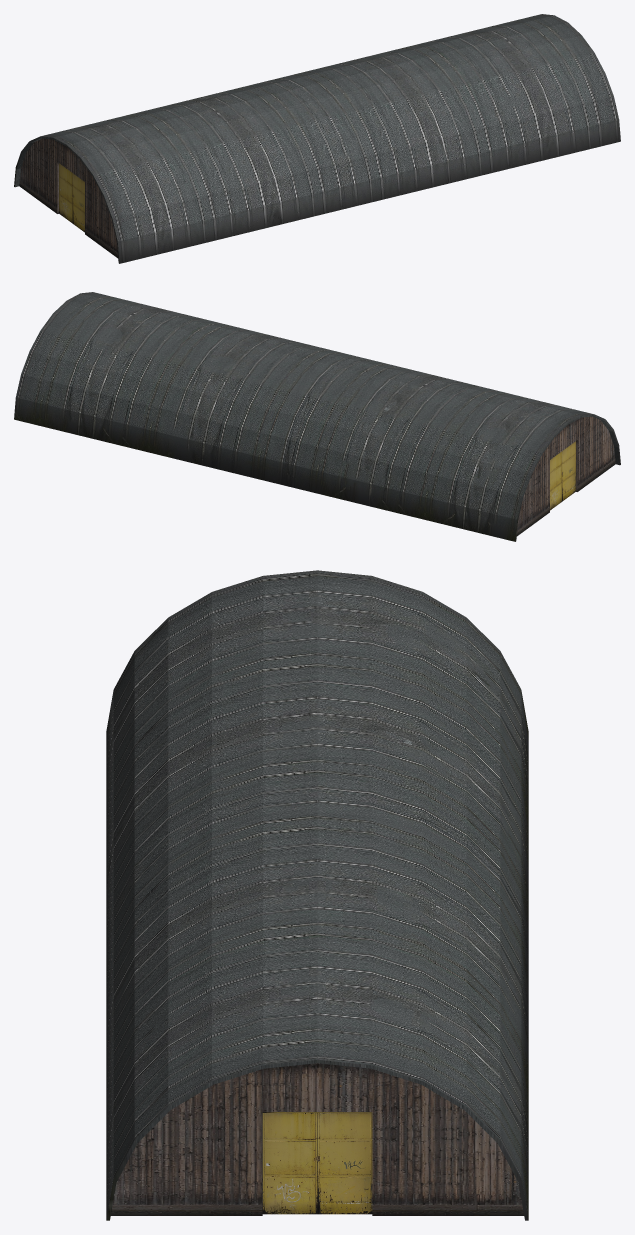
Rendered from hangar.obj.
The picture shows the model from 3 angles, top to bottom: view 1: azimuth 30°, elevation 25°; view 2: azimuth 150°, elevation 25°; view 3: azimuth 270°, elevation 25°; orthographic projection. The views are drawn at different scales.
Visible parts, largest first — view 1: hangar; view 2: hangar; view 3: hangar.
Boxes of the visible parts, <box> form: hangar: <box>14,14,620,263</box>; hangar: <box>14,292,620,541</box>; hangar: <box>106,570,528,1220</box>.
Bounding box in the file's own units: 28.89 × 4.43 × 10.53.
Materials: 1 (1 with a texture image).
